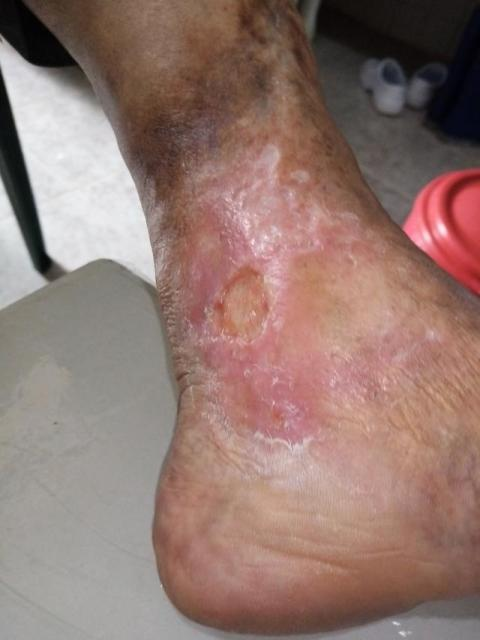wound: (183, 250, 280, 350)
